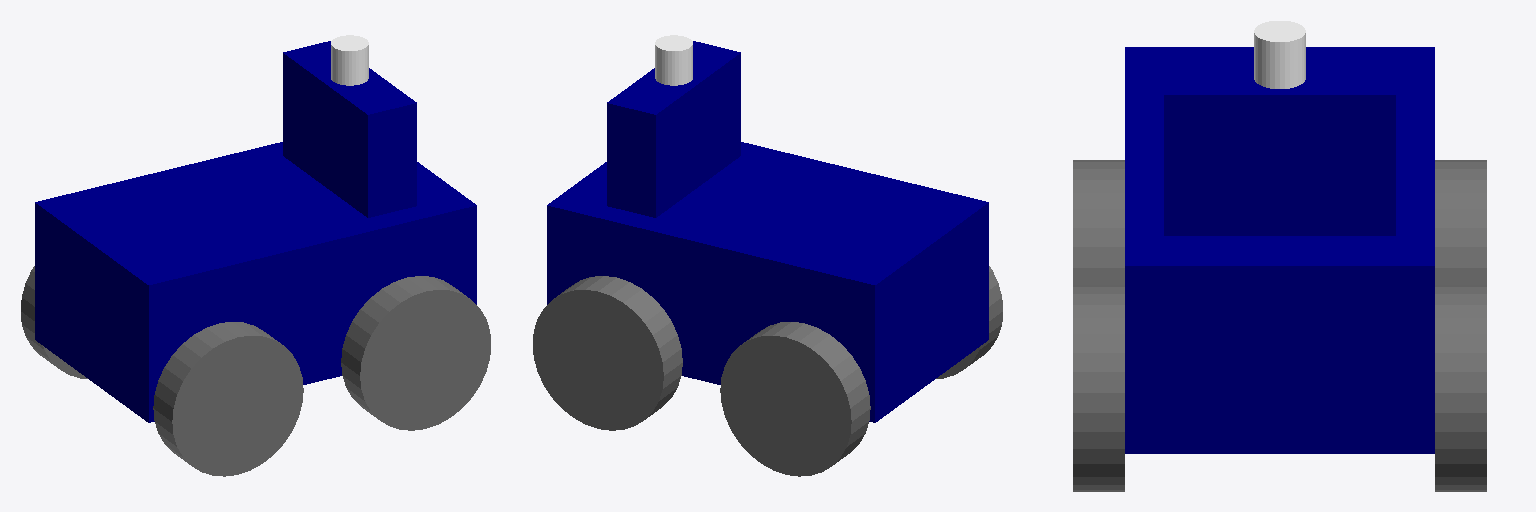
robot.urdf — my_robot:
<?xml version="1.0" ?><!-- =================================================================================== --><!-- |    This document was autogenerated by xacro from [local-path]/rover_ws/src/rover/install/rover/share/rover/models/my_robot.urdf.xacro | --><!-- |    EDITING THIS FILE BY HAND IS NOT RECOMMENDED                                 | --><!-- =================================================================================== --><robot name="my_robot"><material name="grey"><color rgba="0.5 0.5 0.5 1"/></material><material name="blue"><color rgba="0 0 0.6 1"/></material><material name="white"><color rgba="1 1 1 1"/></material><gazebo reference="base_link"><mu1>0.2</mu1><mu2>0.2</mu2><material>Gazebo/Blue</material></gazebo><gazebo reference="stand_link"><mu1>0.2</mu1><mu2>0.2</mu2><material>Gazebo/Blue</material></gazebo><gazebo reference="camera_l_link"><mu1>0.2</mu1><mu2>0.2</mu2><material>Gazebo/White</material></gazebo><gazebo reference="camera_r_link"><mu1>0.2</mu1><mu2>0.2</mu2><material>Gazebo/White</material></gazebo><gazebo reference="wheel_fr_link"><mu1>0.2</mu1><mu2>0.2</mu2><material>Gazebo/White</material></gazebo><gazebo reference="wheel_fl_link"><mu1>0.2</mu1><mu2>0.2</mu2><material>Gazebo/White</material></gazebo><gazebo reference="wheel_br_link"><mu1>0.2</mu1><mu2>0.2</mu2><material>Gazebo/White</material></gazebo><gazebo reference="wheel_bl_link"><mu1>0.2</mu1><mu2>0.2</mu2><material>Gazebo/White</material></gazebo><gazebo><!-- <plugin filename="gz-sim-physics-system" name="gz::sim::systems::Physics"></plugin>
        <plugin filename="gz-sim-scene-broadcaster-system" name="gz::sim::systems::SceneBroadcaster"></plugin> --><!-- <plugin filename="gz_ros2_control-system" name="gz_ros2_control::GazeboSimROS2ControlPlugin">
            <parameters>$(find rover)/config/gz_bridge.yaml</parameters>
        </plugin> --><plugin filename="gz-sim-imu-system" name="gz::sim::systems::Imu"/><plugin filename="gz-sim-sensors-system" name="gz::sim::systems::Sensors"><render_engine>ogre2</render_engine></plugin><gazebo reference="lidar_link"><sensor name="lidar_link" type="gpu_lidar"><gz_frame_id>lidar_link</gz_frame_id><topic>scan</topic><update_rate>30</update_rate><lidar><scan><horizontal><samples>2800</samples><resolution>1</resolution><min_angle>-3.14</min_angle><max_angle>3.14</max_angle></horizontal><vertical><samples>1</samples><resolution>0.1</resolution><min_angle>0</min_angle><max_angle>0</max_angle></vertical></scan><range><min>0.1</min><max>30.0</max><resolution>0.01</resolution></range><frame_id>/lidar_link</frame_id></lidar><alwaysOn>true</alwaysOn><visualize>true</visualize></sensor></gazebo><!-- <plugin filename="gz-sim-diff-drive-system" name="gz::sim::systems::DiffDrive">
            <left_joint>wheel_fl_joint</left_joint>
            <left_joint>wheel_bl_joint</left_joint>
            <right_joint>wheel_fr_joint</right_joint>
            <right_joint>wheel_br_joint</right_joint>
            <wheel_separation>0.7</wheel_separation>
            <wheel_radius>0.2</wheel_radius>
            <max_linear_acceleration>10</max_linear_acceleration>
            <odom_publish_frequency>100</odom_publish_frequency>
            <topic>cmd_vel</topic>
            <odom_topic>odom</odom_topic>
        </plugin> --></gazebo><joint name="stand_joint" type="fixed"><origin xyz="0.2857142857142857 0 0.7100000000000001"/><parent link="base_link"/><child link="stand_link"/></joint><!-- <joint name="camera_l_joint" type="fixed">
        <origin xyz="${stand_length/2} ${stand_width/3} ${stand_height/2 - camera_height/2}"/>
        <parent link="stand_link"/>
        <child link="camera_l_link"/>
    </joint>

    <joint name="camera_r_joint" type="fixed">
        <origin xyz="${stand_length/2} ${-stand_width/3} ${stand_height/2 - camera_height/2}"/>
        <parent link="stand_link"/>
        <child link="camera_r_link"/>
    </joint> --><joint name="lidar_joint" type="fixed"><origin xyz="0 0 0.2"/><parent link="stand_link"/><child link="lidar_link"/></joint><joint name="wheel_fr_joint" type="continuous"><parent link="base_link"/><child link="wheel_fr_link"/><axis xyz="0 1 0"/><origin rpy="0 0 0" xyz="0.2857142857142857 -0.35 0.2"/><limit effort="20000" velocity="1"/><dynamics damping="1.0" friction="1.0"/></joint><joint name="wheel_fl_joint" type="continuous"><parent link="base_link"/><child link="wheel_fl_link"/><axis xyz="0 1 0"/><origin rpy="0 0 0" xyz="0.2857142857142857 0.35 0.2"/><limit effort="20000" velocity="1"/><dynamics damping="1.0" friction="1.0"/></joint><joint name="wheel_br_joint" type="continuous"><parent link="base_link"/><child link="wheel_br_link"/><axis xyz="0 1 0"/><origin rpy="0 0 0" xyz="-0.2857142857142857 -0.35 0.2"/><limit effort="20000" velocity="1"/><dynamics damping="1.0" friction="1.0"/></joint><joint name="wheel_bl_joint" type="continuous"><parent link="base_link"/><child link="wheel_bl_link"/><axis xyz="0 1 0"/><origin rpy="0 0 0" xyz="-0.2857142857142857 0.35 0.2"/><limit effort="20000" velocity="1"/><dynamics damping="1.0" friction="1.0"/></joint><link name="base_link"><visual><geometry><box size="1 0.6 0.4"/></geometry><origin rpy="0 0 0" xyz="0 0 0.36000000000000004"/><material name="blue"/></visual><collision><geometry><box size="1 0.6 0.4"/></geometry><origin rpy="0 0 0" xyz="0 0 0.36000000000000004"/></collision><inertial><origin rpy="0 0 0" xyz="0 0 0.36000000000000004"/><mass value="10"/><inertia ixx="0.9666666666666668" ixy="0" ixz="0" iyy="0.43333333333333335" iyz="0" izz="1.1333333333333333"/></inertial></link><link name="stand_link"><visual><geometry><box size="0.15 0.45 0.3"/></geometry><origin rpy="0 0 0" xyz="0 0 0"/><material name="blue"/></visual><collision><geometry><box size="0.15 0.45 0.3"/></geometry><origin rpy="0 0 0" xyz="0 0 0"/></collision><inertial><origin rpy="0 0 0" xyz="0 0 0"/><mass value="3"/><inertia ixx="0.028124999999999997" ixy="0" ixz="0" iyy="0.073125" iyz="0" izz="0.05625"/></inertial></link><!-- <link name="camera_l_link">
        <visual>
            <geometry>
                <box size="${camera_length/2} ${camera_width} ${camera_height}"/>
            </geometry>
            <origin xyz="${-camera_length/4 + camera_length/2} 0 0" rpy="0 0 0"/>
            <material name="white"/>
        </visual>
        <visual>
            <geometry>
                <cylinder radius="${camera_width/3.2}" length="${camera_length/2}"/>
            </geometry>
            <origin xyz="${camera_length/4 + camera_length/2} 0 0" rpy="0 ${pi/2} 0"/>
            <material name="white"/>
        </visual>
        <collision>
            <geometry>
                <box size="${camera_length} ${camera_width} ${camera_height}"/>
            </geometry>
            <origin xyz="0 0 0" rpy="0 0 0"/>
        </collision>
        <inertial>
            <origin xyz="0 0 0" rpy="0 0 0"/>
            <mass value="${camera_mass}"/>
            <inertia ixx="${(camera_mass/12)*(camera_height * camera_height + camera_length * camera_length)}" ixy="0" ixz="0" iyy="${(camera_mass/12)*(camera_height * camera_height + camera_width * camera_width)}" iyz="0" izz="${(camera_mass/12)*(camera_length * camera_length + camera_width * camera_width)}"/>
        </inertial>
    </link>

    <link name="camera_r_link">
        <visual>
            <geometry>
                <box size="${camera_length/2} ${camera_width} ${camera_height}"/>
            </geometry>
            <origin xyz="${-camera_length/4 + camera_length/2} 0 0" rpy="0 0 0"/>
            <material name="white"/>
        </visual>
        <visual>
            <geometry>
                <cylinder radius="${camera_width/3.2}" length="${camera_length/2}"/>
            </geometry>
            <origin xyz="${camera_length/4 + camera_length/2} 0 0" rpy="0 ${pi/2} 0"/>
            <material name="white"/>
        </visual>
        <collision>
            <geometry>
                <box size="${camera_length} ${camera_width} ${camera_height}"/>
            </geometry>
            <origin xyz="0 0 0" rpy="0 0 0"/>
        </collision>
        <inertial>
            <origin xyz="0 0 0" rpy="0 0 0"/>
            <mass value="${camera_mass}"/>
            <inertia ixx="${(camera_mass/12)*(camera_height * camera_height + camera_length * camera_length)}" ixy="0" ixz="0" iyy="${(camera_mass/12)*(camera_height * camera_height + camera_width * camera_width)}" iyz="0" izz="${(camera_mass/12)*(camera_length * camera_length + camera_width * camera_width)}"/>
        </inertial>
    </link> --><link name="lidar_link"><visual><geometry><cylinder length="0.1" radius="0.05"/></geometry><origin rpy="0 0 0" xyz="0 0 0"/><material name="white"/></visual><collision><geometry><cylinder length="0.1" radius="0.05"/></geometry><origin rpy="0 0 0" xyz="0 0 0"/></collision><inertial><origin rpy="0 0 0" xyz="0 0 0"/><mass value="0.1"/><inertia ixx="0.00014583333333333335" ixy="0" ixz="0" iyy="0.00014583333333333335" iyz="0" izz="0.00012500000000000003"/></inertial></link><link name="wheel_fr_link"><visual><geometry><cylinder length="0.1" radius="0.2"/></geometry><origin rpy="1.5707963267948966 0 0" xyz="0 0 0"/><material name="grey"/></visual><collision><geometry><cylinder length="0.1" radius="0.2"/></geometry><origin rpy="1.5707963267948966 0 0" xyz="0 0 0"/></collision><inertial><origin rpy="1.5707963267948966 0 0" xyz="0 0 0"/><mass value="2.5"/><inertia ixx="0.02708333333333334" ixy="0" ixz="0" iyy="0.02708333333333334" iyz="0" izz="0.05"/></inertial></link><link name="wheel_fl_link"><visual><geometry><cylinder length="0.1" radius="0.2"/></geometry><origin rpy="1.5707963267948966 0 0" xyz="0 0 0"/><material name="grey"/></visual><collision><geometry><cylinder length="0.1" radius="0.2"/></geometry><origin rpy="1.5707963267948966 0 0" xyz="0 0 0"/></collision><inertial><origin rpy="1.5707963267948966 0 0" xyz="0 0 0"/><mass value="2.5"/><inertia ixx="0.02708333333333334" ixy="0" ixz="0" iyy="0.02708333333333334" iyz="0" izz="0.05"/></inertial></link><link name="wheel_br_link"><visual><geometry><cylinder length="0.1" radius="0.2"/></geometry><origin rpy="1.5707963267948966 0 0" xyz="0 0 0"/><material name="grey"/></visual><collision><geometry><cylinder length="0.1" radius="0.2"/></geometry><origin rpy="1.5707963267948966 0 0" xyz="0 0 0"/></collision><inertial><origin rpy="1.5707963267948966 0 0" xyz="0 0 0"/><mass value="2.5"/><inertia ixx="0.02708333333333334" ixy="0" ixz="0" iyy="0.02708333333333334" iyz="0" izz="0.05"/></inertial></link><link name="wheel_bl_link"><visual><geometry><cylinder length="0.1" radius="0.2"/></geometry><origin rpy="1.5707963267948966 0 0" xyz="0 0 0"/><material name="grey"/></visual><collision><geometry><cylinder length="0.1" radius="0.2"/></geometry><origin rpy="1.5707963267948966 0 0" xyz="0 0 0"/></collision><inertial><origin rpy="1.5707963267948966 0 0" xyz="0 0 0"/><mass value="2.5"/><inertia ixx="0.02708333333333334" ixy="0" ixz="0" iyy="0.02708333333333334" iyz="0" izz="0.05"/></inertial></link></robot>

--- Render facts (derived) ---
3 views of the same robot in one strip: view 1: azimuth 30°, elevation 25°; view 2: azimuth 150°, elevation 25°; view 3: azimuth 270°, elevation 25° (orthographic).
Model my_robot with 7 links and 6 joints (4 continuous, 2 fixed), rooted at base_link, posed every joint at zero.
Links seen in each view (by area): view 1: base_link, wheel_br_link, wheel_fr_link, stand_link, lidar_link, wheel_bl_link; view 2: base_link, wheel_bl_link, wheel_fl_link, stand_link, lidar_link, wheel_br_link; view 3: base_link, stand_link, wheel_fr_link, wheel_fl_link, wheel_br_link, wheel_bl_link, lidar_link.
Boxes of the visible links, bbox=[...] form: base_link: bbox=[35, 142, 476, 422]; wheel_br_link: bbox=[153, 322, 303, 476]; wheel_fr_link: bbox=[341, 276, 490, 430]; stand_link: bbox=[283, 41, 416, 217]; lidar_link: bbox=[331, 35, 368, 85]; wheel_bl_link: bbox=[21, 266, 87, 378]; base_link: bbox=[547, 142, 988, 422]; wheel_bl_link: bbox=[720, 322, 870, 476]; wheel_fl_link: bbox=[533, 276, 682, 430]; stand_link: bbox=[607, 41, 740, 217]; lidar_link: bbox=[655, 35, 692, 85]; wheel_br_link: bbox=[936, 266, 1002, 378]; base_link: bbox=[1125, 47, 1434, 453]; stand_link: bbox=[1164, 62, 1395, 235]; wheel_fr_link: bbox=[1073, 285, 1124, 491]; wheel_fl_link: bbox=[1435, 285, 1486, 491]; wheel_br_link: bbox=[1073, 160, 1124, 284]; wheel_bl_link: bbox=[1435, 160, 1486, 284]; lidar_link: bbox=[1254, 21, 1305, 88].
Size in the robot's own frame: 1 by 0.8 by 0.96 metres.
Geometry: primitives only (box / cylinder / sphere), no mesh files.